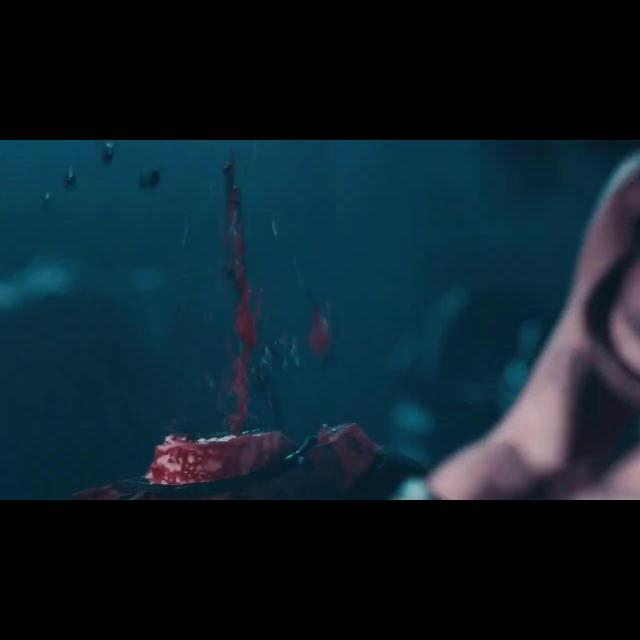blood: (72, 154, 383, 500), (292, 256, 333, 358), (252, 332, 301, 385), (138, 166, 160, 189), (62, 164, 76, 191), (100, 140, 114, 164), (41, 191, 50, 211)
